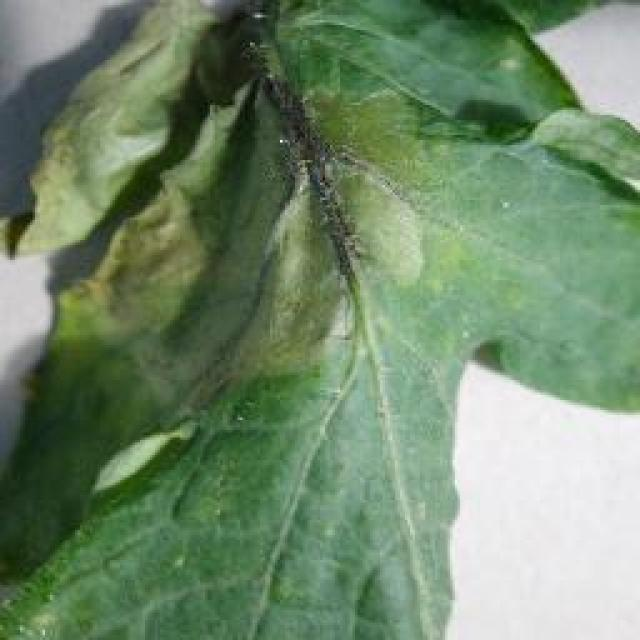Tomato Late Blight: (190, 105, 408, 400)
